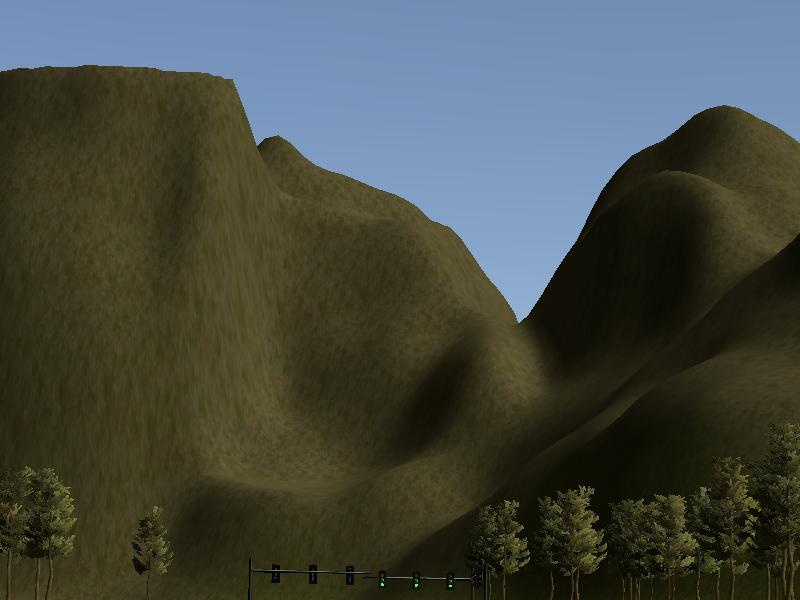Green: (376, 568, 388, 591), (410, 569, 422, 591), (445, 571, 456, 591)
